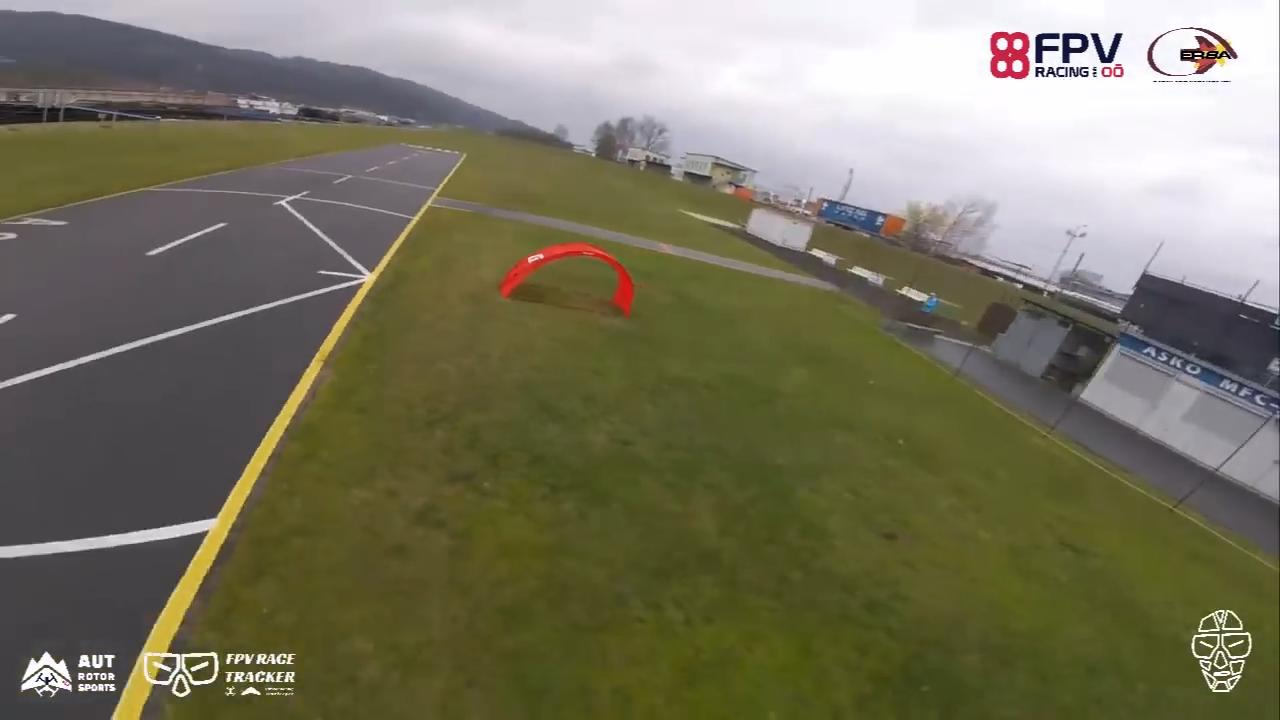gate: (496, 240, 637, 317)
